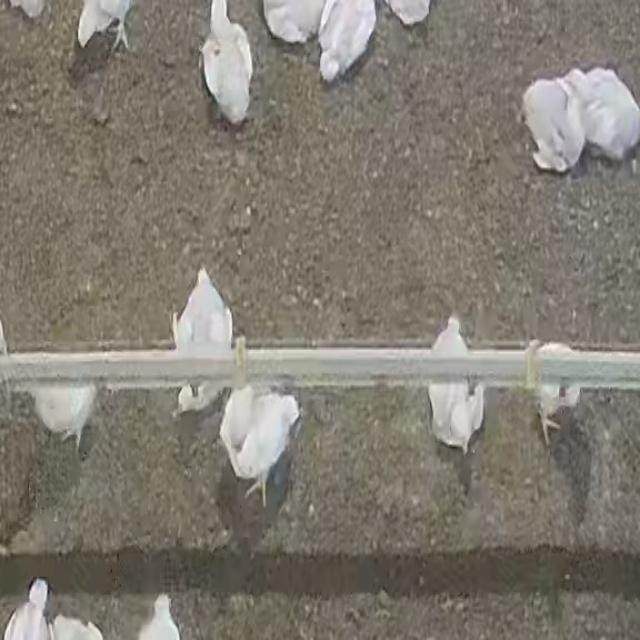chicken: (160, 264, 232, 418), (218, 386, 302, 508), (424, 310, 489, 462), (195, 0, 262, 128)
